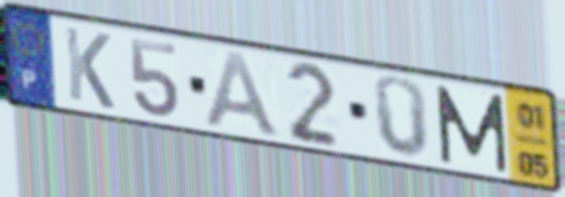0: (371, 74, 432, 161)
2: (282, 59, 345, 151)
5: (126, 34, 182, 119)
A: (201, 47, 285, 142)
K: (61, 23, 117, 113)
M: (432, 82, 511, 176)
